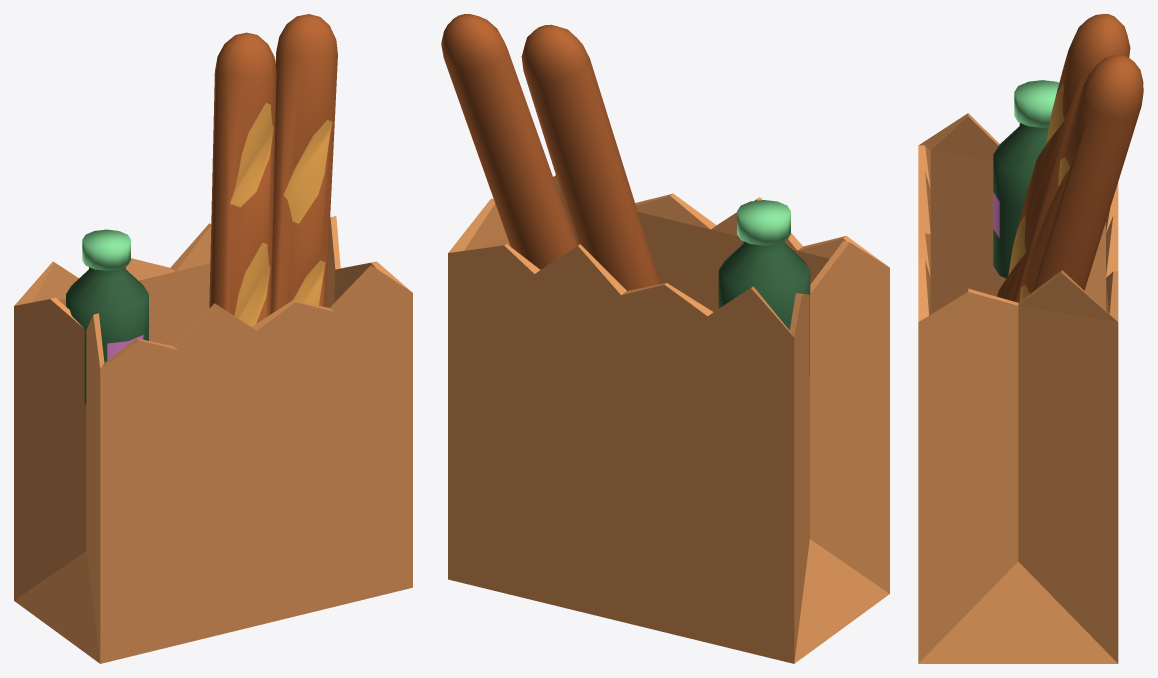
The model's file is Bag.fbx.
3 views of the same model, side by side, from view 1: azimuth 30°, elevation 25°; view 2: azimuth 150°, elevation 25°; view 3: azimuth 270°, elevation 25° (orthographic). The views are drawn at different scales.
Parts seen in each view (by area): view 1: Bag; view 2: Bag; view 3: Bag.
Boxes of the visible parts, x1,y1,x2,y2 form: Bag: [14, 14, 412, 663]; Bag: [441, 14, 889, 663]; Bag: [918, 14, 1143, 663].
Bounding box in the file's own units: 0.3737 × 0.7059 × 1.09.
